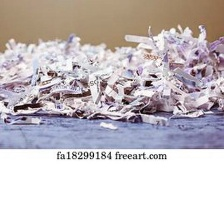book: (0, 17, 224, 132)
